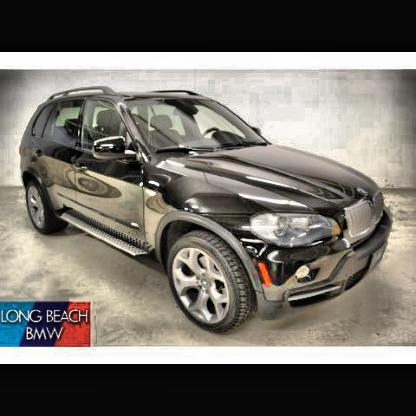BMW X5 SUV 2007: (19, 89, 393, 337)
